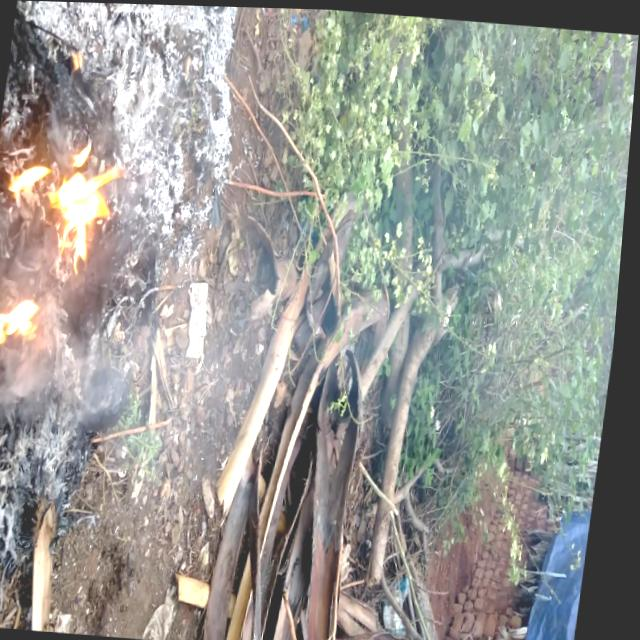Fire: (1, 136, 129, 274), (0, 293, 47, 350)
